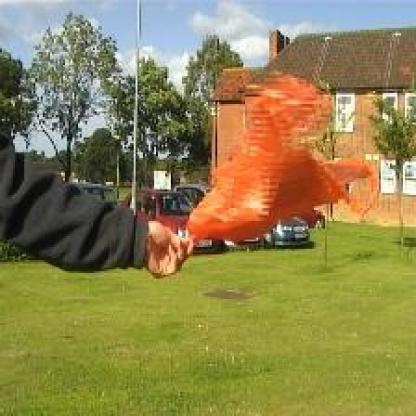other: (175, 75, 393, 259)
